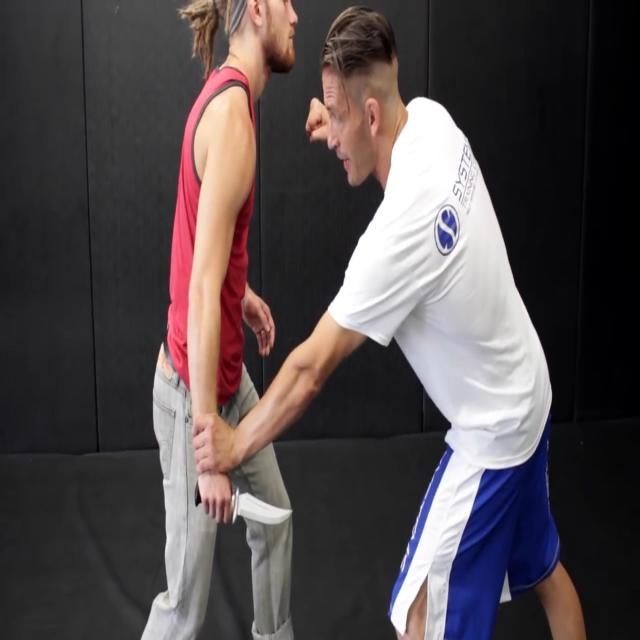knife: (193, 483, 296, 533)
